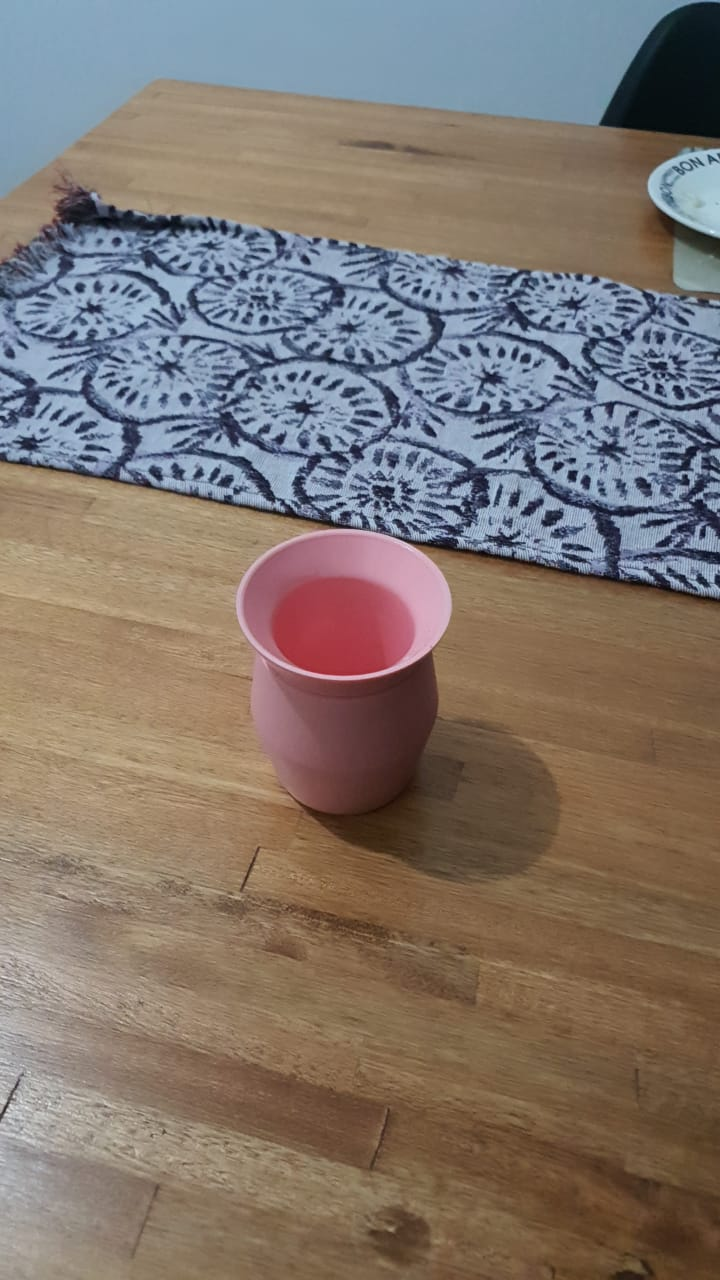mate: (214, 528, 465, 831)
plastico: (222, 523, 454, 823)
